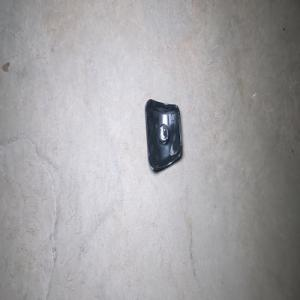LuggagePart: (144, 98, 183, 173)
